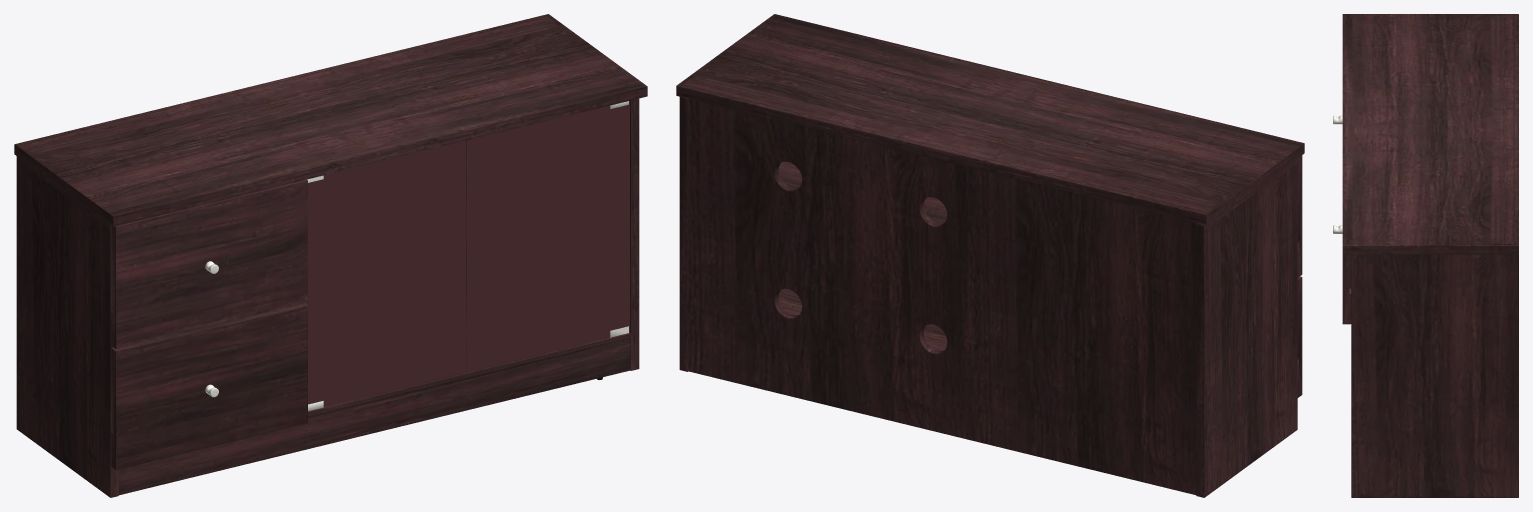
File: B07LC5TNFD.glb
3 views of the same model, side by side, from view 1: azimuth 30°, elevation 25°; view 2: azimuth 150°, elevation 25°; view 3: azimuth 270°, elevation 25° (orthographic). The views are drawn at different scales.
Parts seen in each view (by area): view 1: RootNode; view 2: RootNode; view 3: RootNode.
Part boxes in pixels (x1,y1,x2,y2): RootNode: [14, 14, 647, 497]; RootNode: [676, 14, 1304, 497]; RootNode: [1333, 14, 1518, 497].
Size of the model in its own units: 1.19 by 0.6146 by 0.4039.
1 material, 1 textured.
